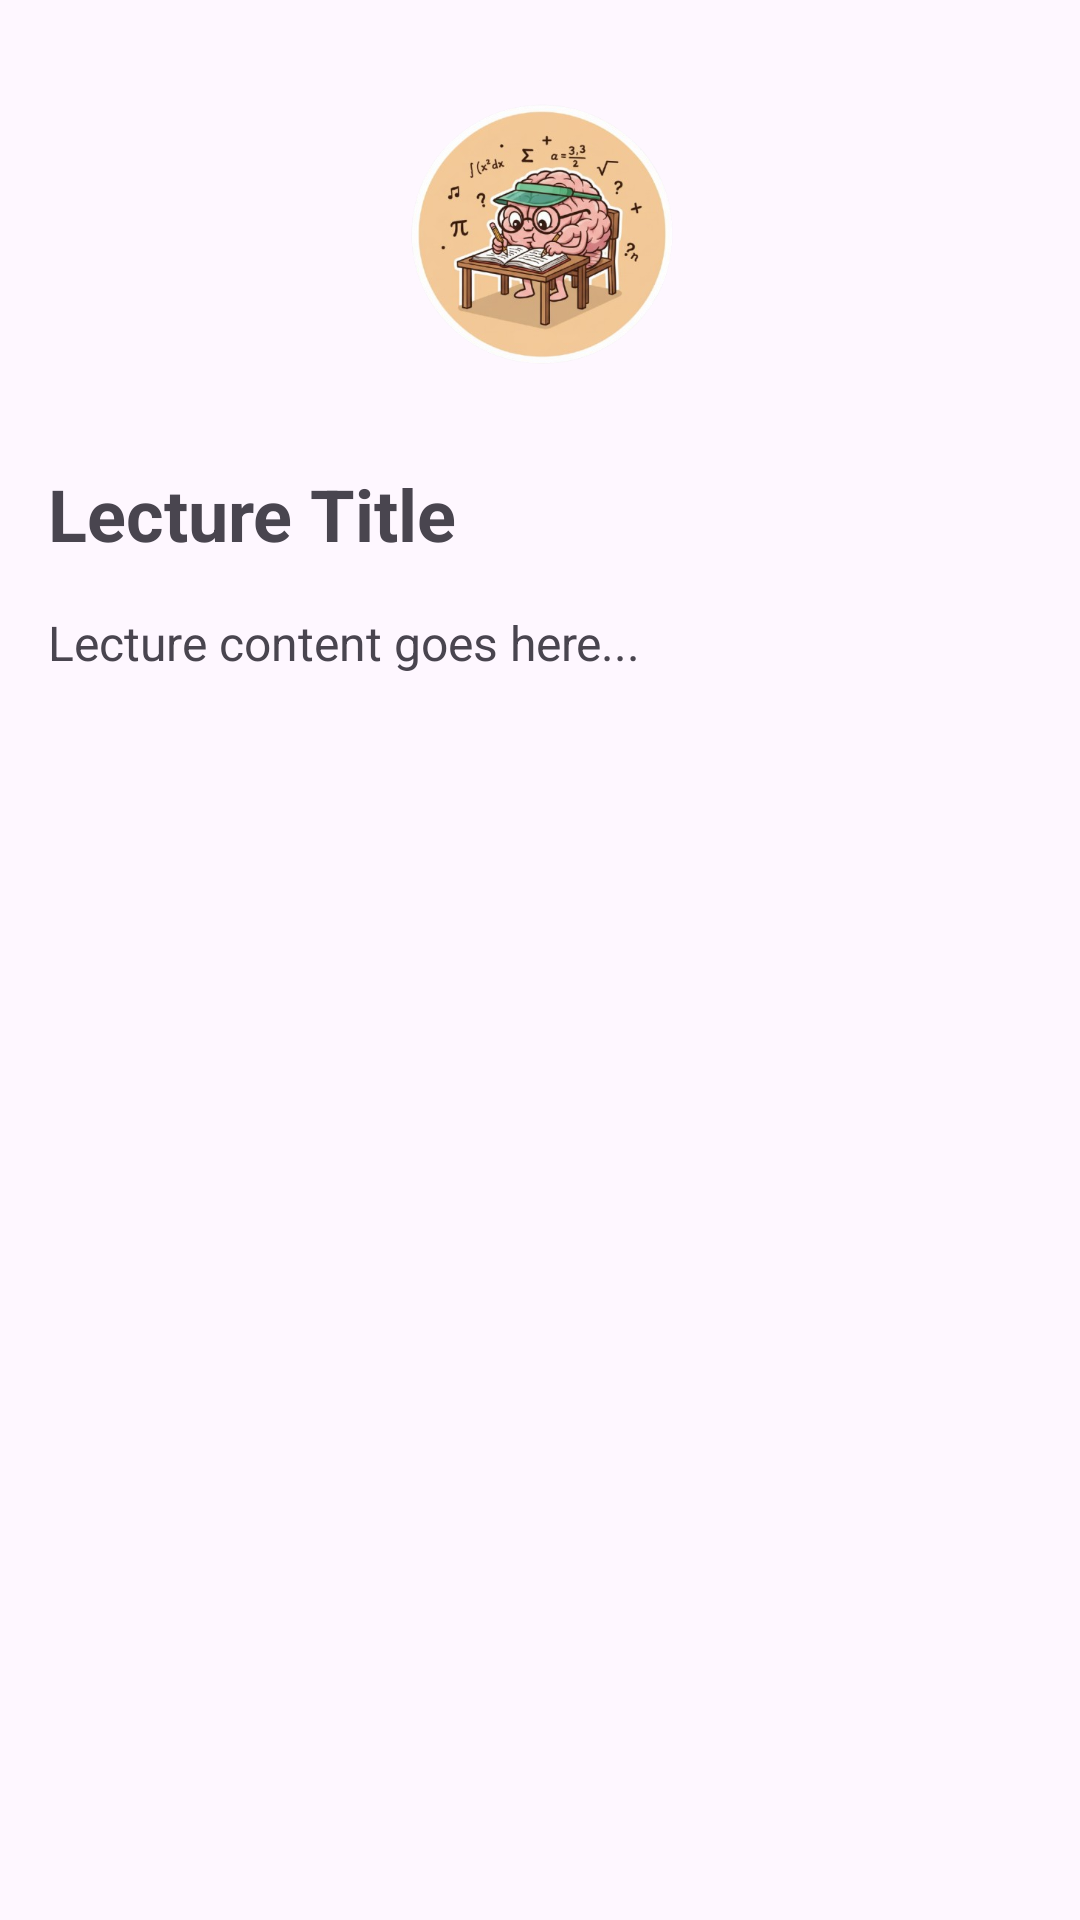

Icons on this 1080px×1920px Android screen, each with the point to tap as [x,y]:
brainfocusing: [542,234]
